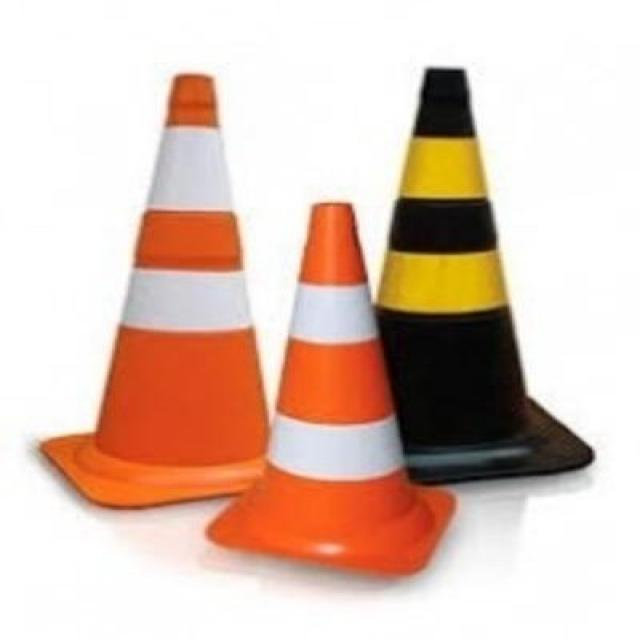cone: (48, 72, 258, 519), (212, 200, 449, 592), (369, 64, 584, 476)
